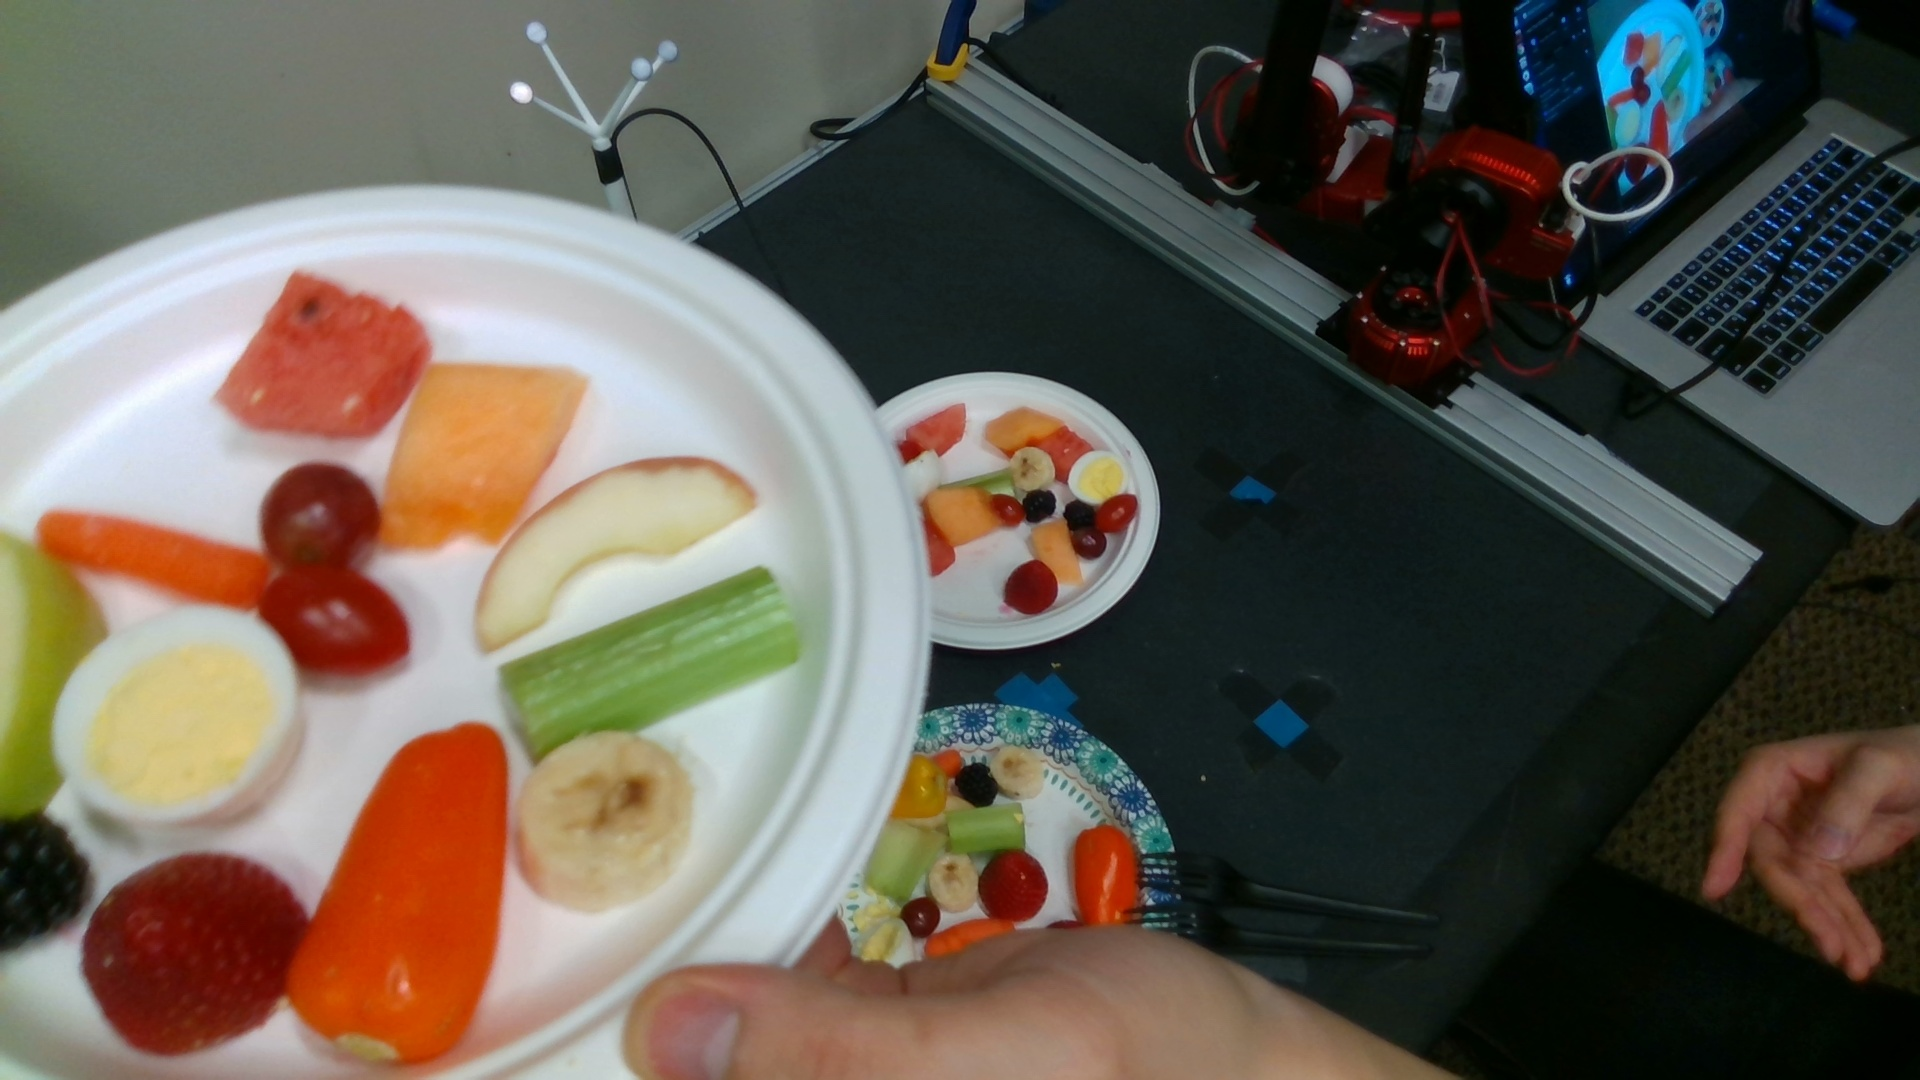apple: (475, 458, 756, 649)
banana: (516, 733, 692, 911), (930, 853, 977, 913), (992, 749, 1043, 798), (1011, 448, 1054, 491)
bell_pepper: (293, 724, 506, 1063), (1073, 824, 1135, 938)
blackberry: (957, 764, 997, 807), (1025, 491, 1056, 521), (1065, 500, 1093, 527)
cantalope: (382, 364, 578, 541), (924, 488, 1004, 543), (986, 409, 1062, 448), (1034, 522, 1083, 583)
carrot: (40, 516, 264, 604)
celery: (501, 568, 796, 760), (870, 822, 943, 898), (949, 803, 1026, 851)
cherry_tomato: (260, 564, 411, 675), (1098, 496, 1135, 531), (993, 495, 1022, 525)
egg: (51, 605, 295, 828), (1069, 451, 1126, 502)
grape: (266, 464, 378, 563), (901, 898, 939, 936), (1073, 529, 1106, 558)
melon: (216, 272, 430, 435), (910, 405, 967, 454)
plate: (3, 186, 931, 1080), (841, 702, 1182, 963), (874, 371, 1160, 650)
strawberry: (82, 855, 305, 1054), (981, 853, 1047, 920), (1007, 560, 1056, 613)
